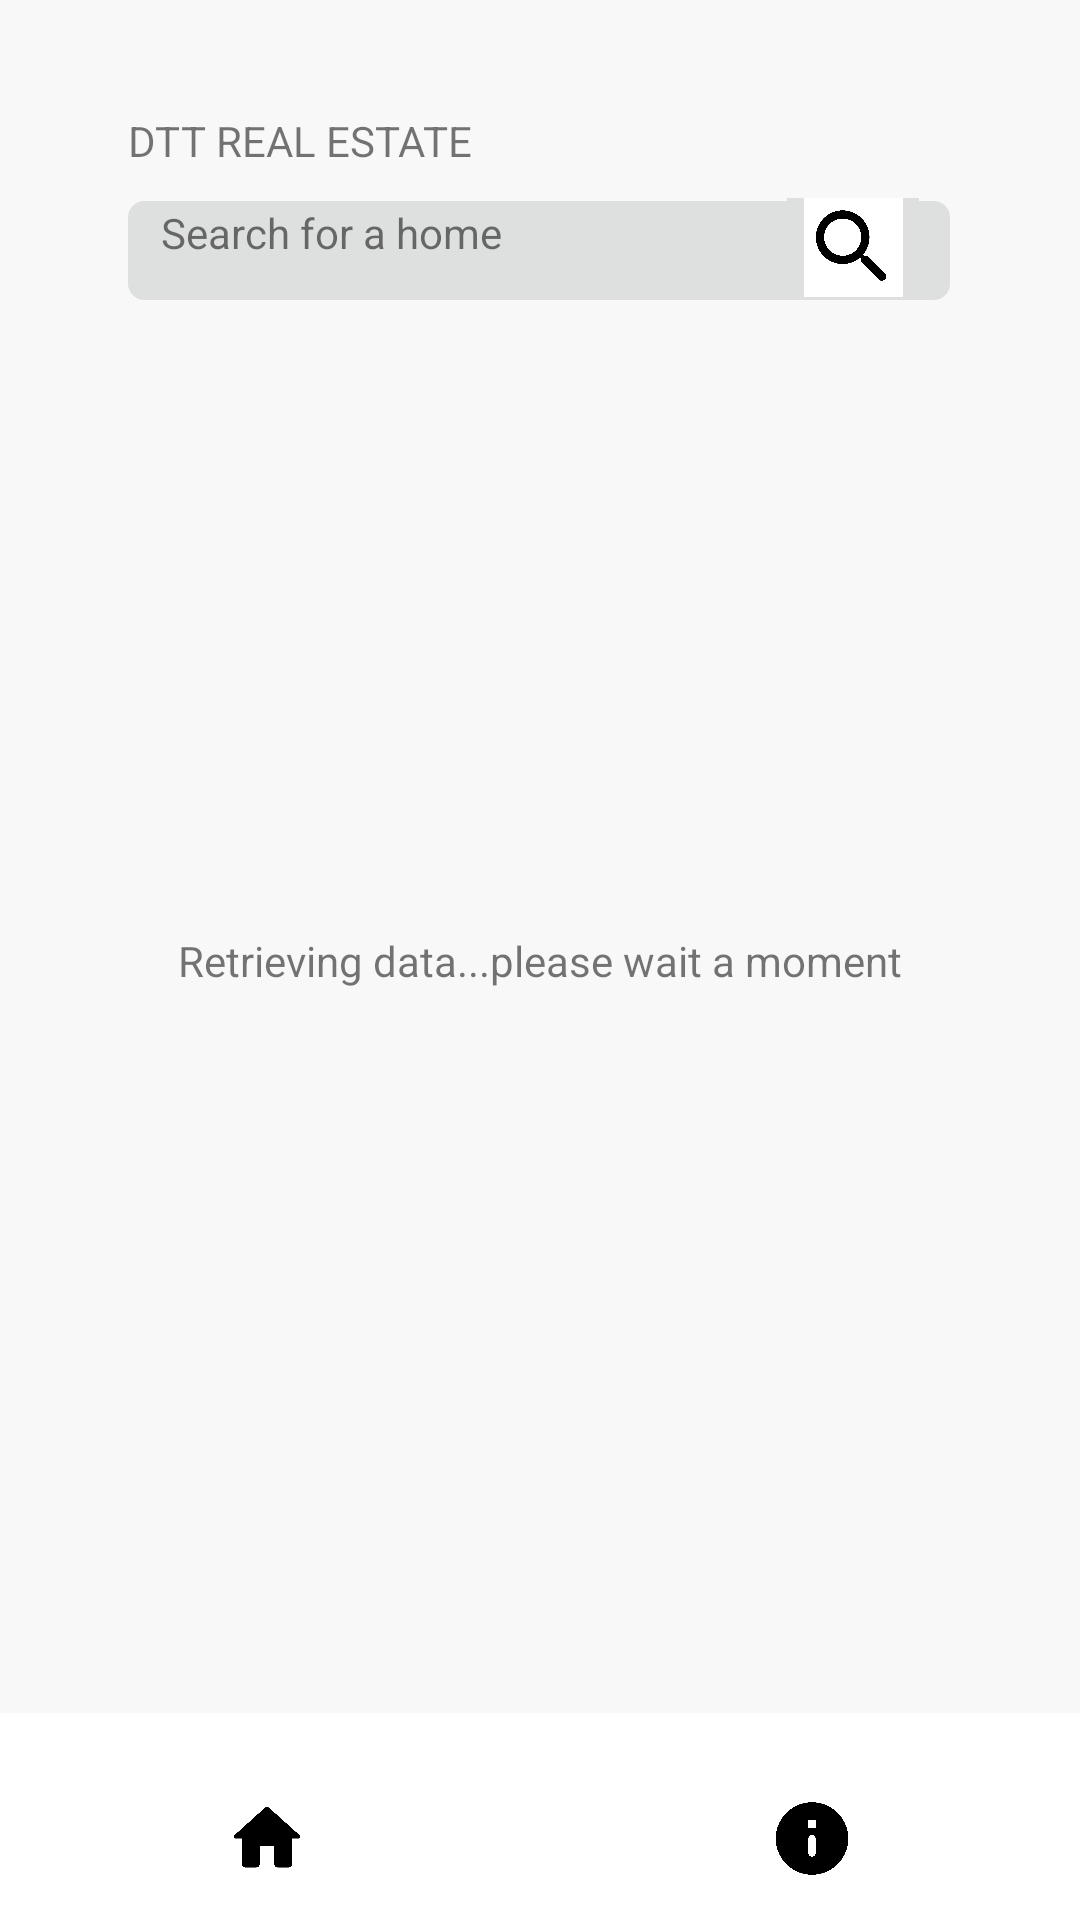

Icons on this 1080×1920 Android screen, each with its box as (x1, y1, x2, y2):
home: (234, 1807, 300, 1868)
info: (776, 1802, 848, 1875)
